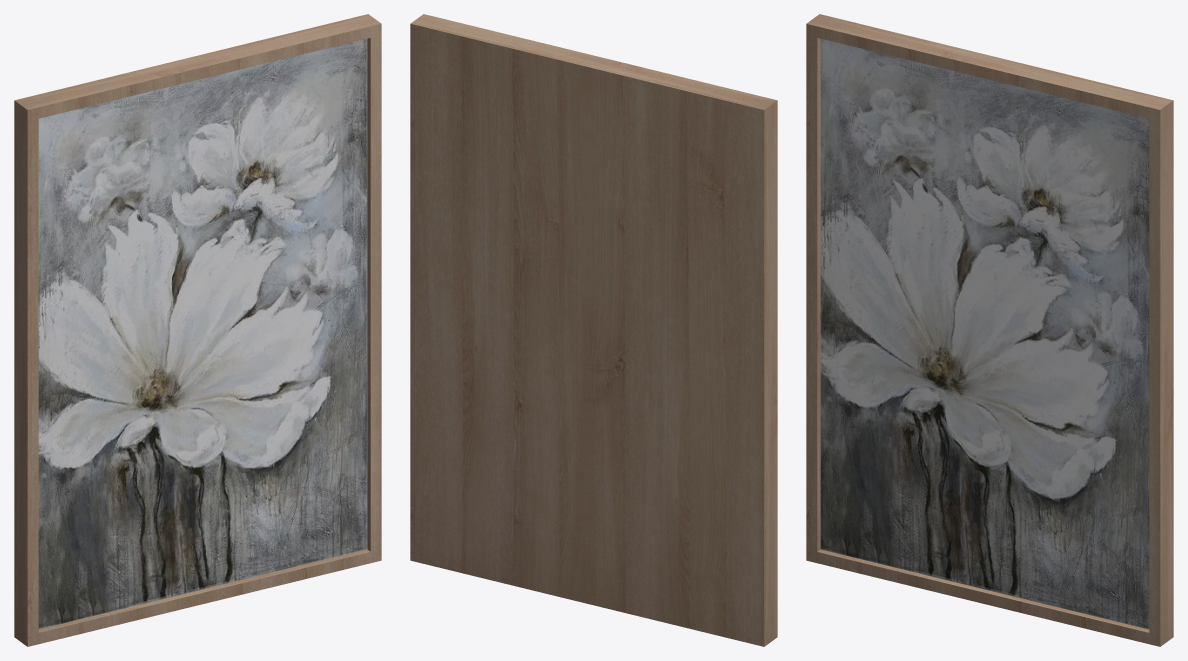
Rendered from Picture 2.FBX.
3 views of the same model, side by side, from view 1: azimuth 30°, elevation 25°; view 2: azimuth 150°, elevation 25°; view 3: azimuth 330°, elevation 25° (orthographic).
Parts seen in each view (by area): view 1: Picture 2; view 2: Picture 2; view 3: Picture 2.
Boxes of the visible parts, <box> form: Picture 2: <box>14,14,381,646</box>; Picture 2: <box>410,14,777,646</box>; Picture 2: <box>806,14,1173,646</box>.
Size of the model in its own units: 90.04 by 130 by 5.87.
2 materials, 2 textured.
